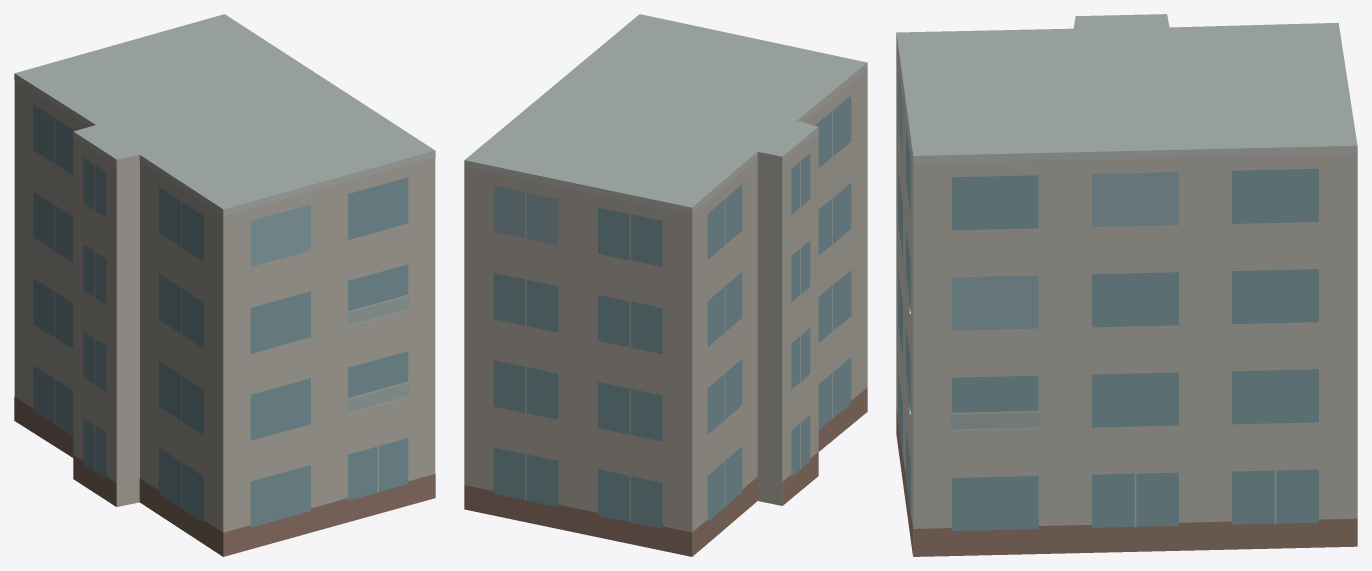
The model's file is survey-upis-32698329.glb.
The picture shows the model from 3 angles, left to right: view 1: azimuth 30°, elevation 25°; view 2: azimuth 150°, elevation 25°; view 3: azimuth 270°, elevation 25°; orthographic projection. The views are drawn at different scales.
Visible parts, largest first — view 1: survey-upis-32698329.tmp; view 2: survey-upis-32698329.tmp; view 3: survey-upis-32698329.tmp.
Boxes of the visible parts, x1=… form: survey-upis-32698329.tmp: x1=14, y1=14, x2=435, y2=556; survey-upis-32698329.tmp: x1=464, y1=14, x2=867, y2=556; survey-upis-32698329.tmp: x1=896, y1=14, x2=1357, y2=556.
Bounding box in the file's own units: 9.73 × 12.8 × 13.36.
